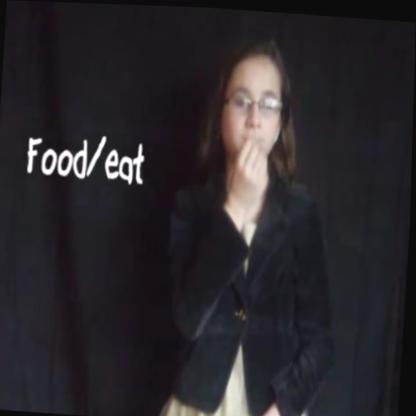Food: (191, 22, 322, 227)
